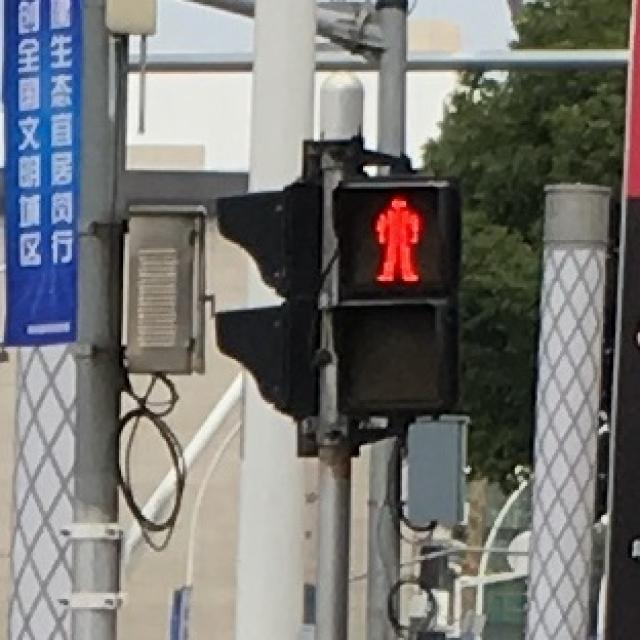red-crossing: (346, 181, 439, 286)
